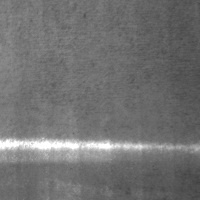scratches: (0, 136, 199, 164)
